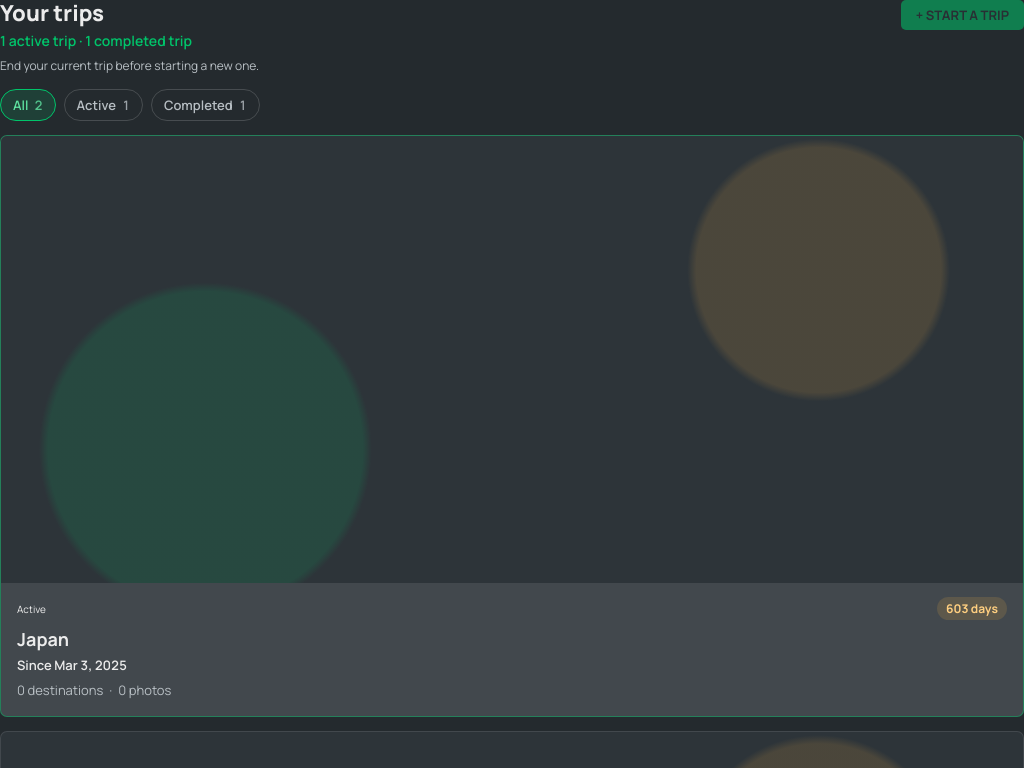
Scenario: Trips list › blocks starting a second active trip and filters by status
The image size is (1024, 768).
Check: the button "+ Start a Trip" is disabled, box [901, 0, 1023, 30]
Check: the link "Japan" is shown, box [17, 627, 69, 651]
Click the button "Completed 1": (205, 105) [151, 89, 260, 121]
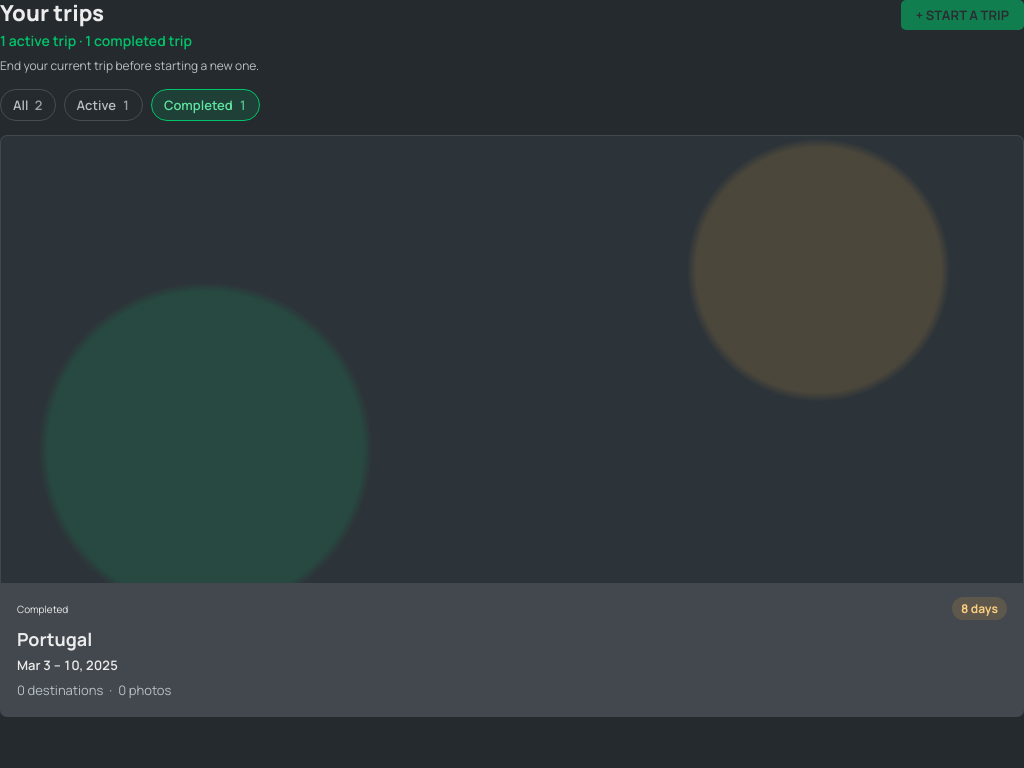
Check: the link "Portugal" is shown, box [17, 627, 92, 651]
Check: the link "Japan" is gone
